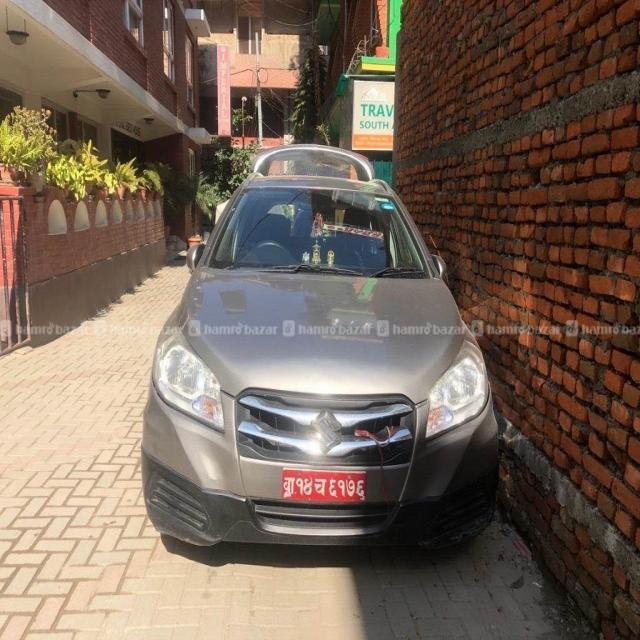License-plate: (282, 463, 372, 505)
